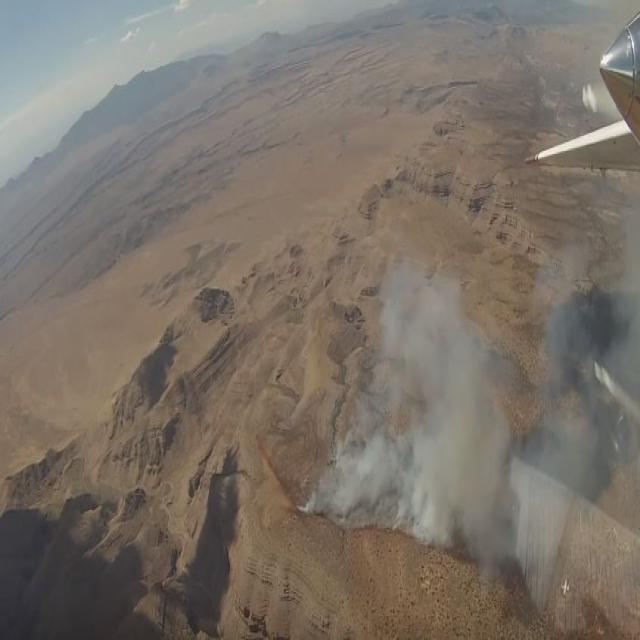Fire: (386, 306, 486, 536)
